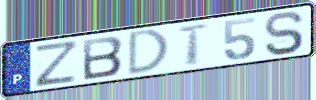5: (222, 15, 257, 61)
B: (81, 34, 126, 82)
D: (126, 27, 171, 78)
S: (263, 10, 306, 57)
T: (176, 22, 212, 67)
Z: (33, 38, 81, 89)
